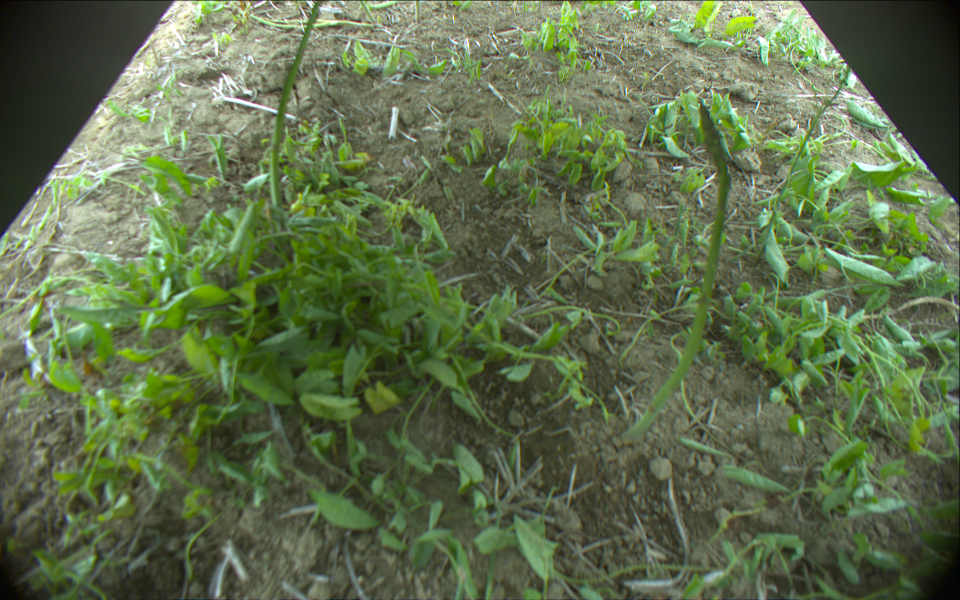aspa: (615, 101, 730, 443), (768, 66, 850, 228), (270, 1, 322, 207), (242, 11, 375, 28), (361, 1, 377, 25), (371, 1, 399, 11), (414, 1, 424, 21)
